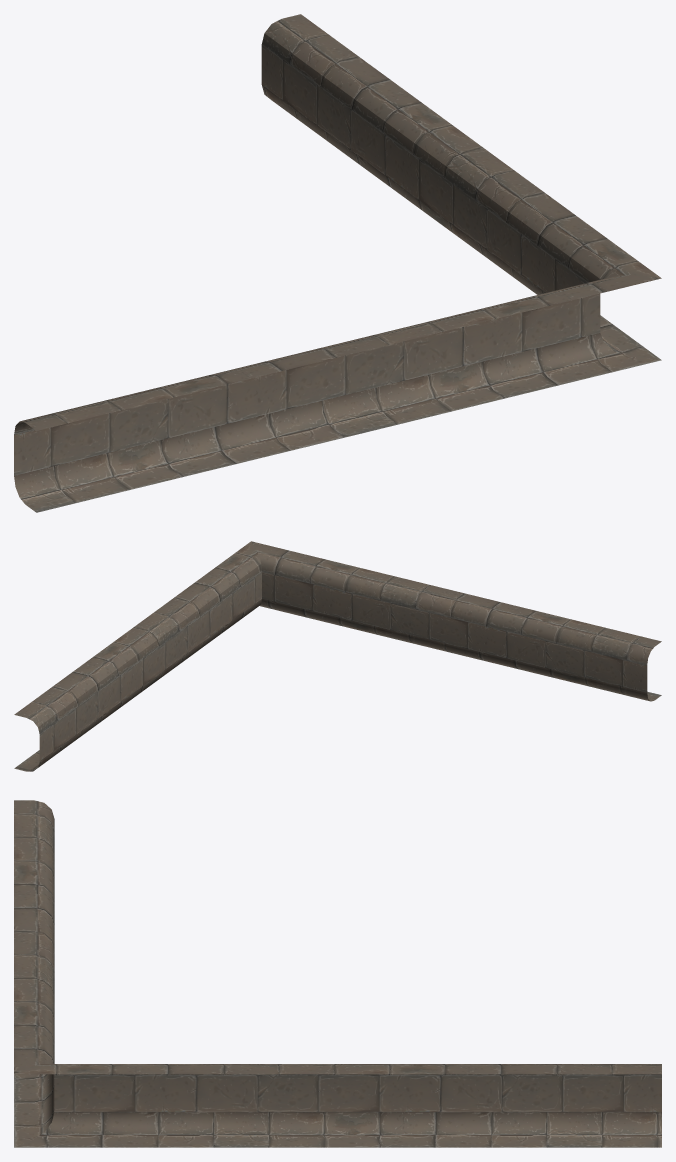
The model's file is Ruins_LedgeCorner_Intact_01a.fbx.
3 renders of one model, top to bottom at view 1: azimuth 30°, elevation 25°; view 2: azimuth 150°, elevation 25°; view 3: azimuth 270°, elevation 25°, orthographic. The views are drawn at different scales.
Visible parts, largest first — view 1: Ruins_LedgeCorner_Intact_01a; view 2: Ruins_LedgeCorner_Intact_01a; view 3: Ruins_LedgeCorner_Intact_01a.
Part boxes in pixels (box(x1,y1,x2,y2)): Ruins_LedgeCorner_Intact_01a: box(14, 14, 661, 512); Ruins_LedgeCorner_Intact_01a: box(14, 541, 661, 771); Ruins_LedgeCorner_Intact_01a: box(14, 800, 661, 1147).
Bounding box in the file's own units: 8 × 1 × 8.
1 material, 1 textured.
